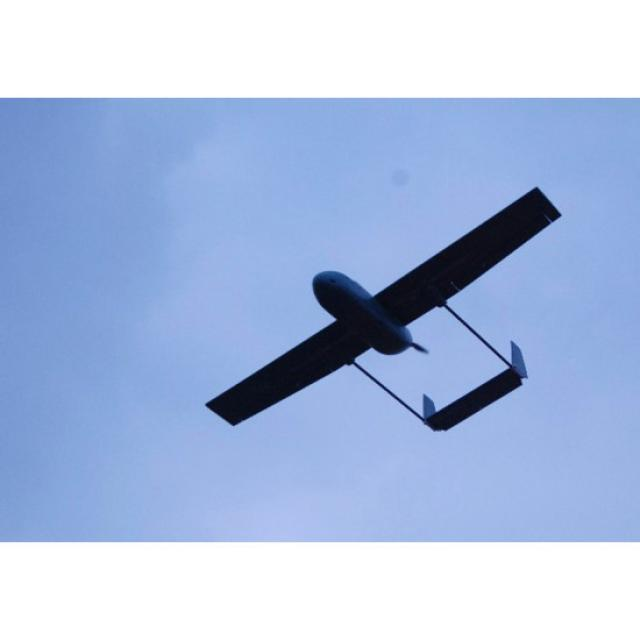iha: (196, 178, 564, 447)
